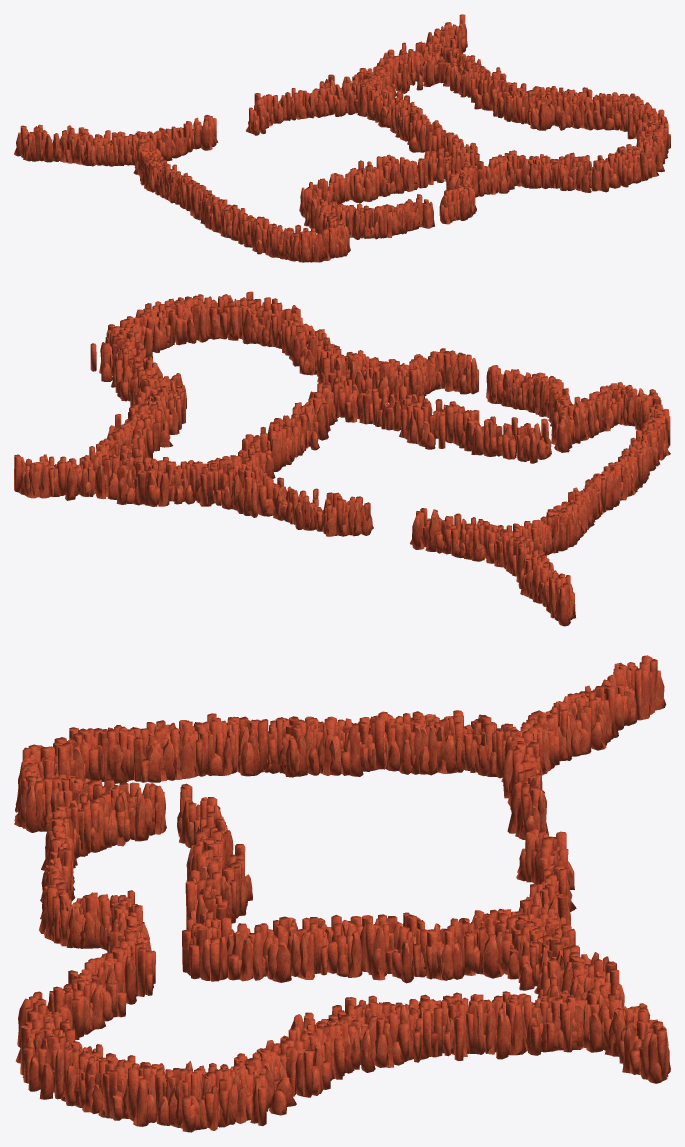
The model's file is w_canyon.fbx.
3 views of the same model, one above another, from view 1: azimuth 30°, elevation 25°; view 2: azimuth 150°, elevation 25°; view 3: azimuth 270°, elevation 25° (orthographic). The views are drawn at different scales.
Parts seen in each view (by area): view 1: w_canyon; view 2: w_canyon; view 3: w_canyon.
Boxes of the visible parts, bbox=[...] form: w_canyon: bbox=[14, 14, 670, 262]; w_canyon: bbox=[14, 291, 670, 626]; w_canyon: bbox=[14, 655, 670, 1132].
Bounding box in the file's own units: 18273 × 1008 × 11763.
Materials: 1 (1 with a texture image).
